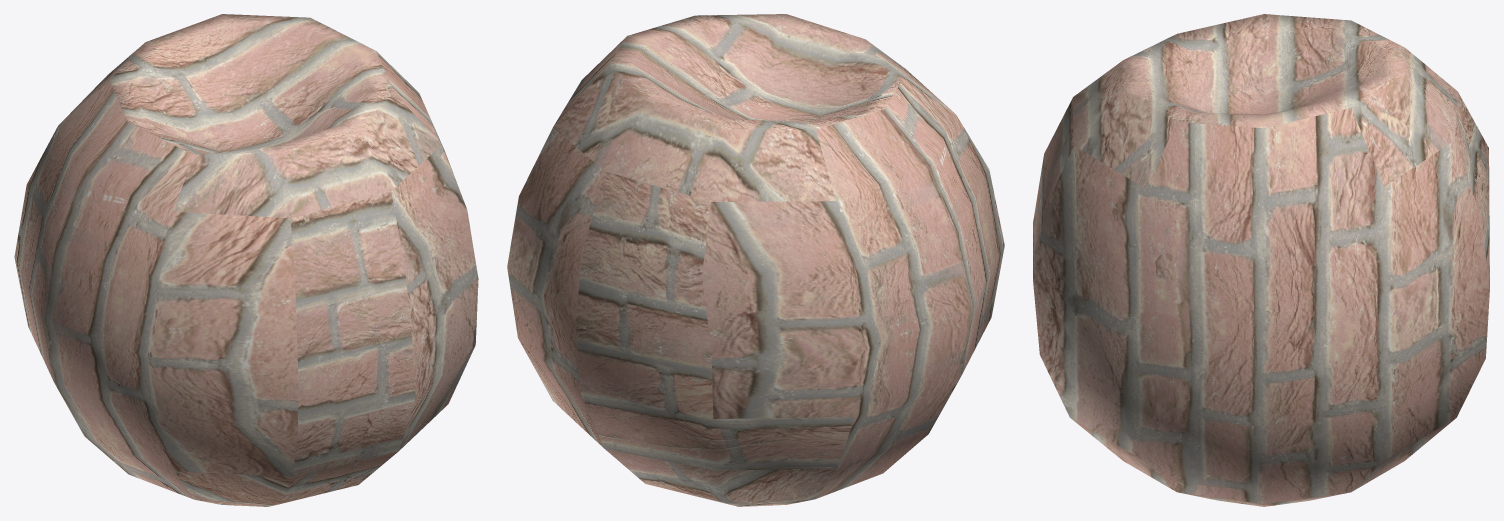
File: Egg.fbx
The picture shows the model from 3 angles, left to right: view 1: azimuth 30°, elevation 25°; view 2: azimuth 150°, elevation 25°; view 3: azimuth 270°, elevation 25°; orthographic projection. The views are drawn at different scales.
Parts seen in each view (by area): view 1: Egg; view 2: Egg; view 3: Egg.
Boxes of the visible parts, x1,y1,x2,y2 form: Egg: (14,14,478,506); Egg: (507,14,1004,506); Egg: (1033,14,1489,506).
Bounding box in the file's own units: 195 × 183 × 181.
1 material, 1 textured.
